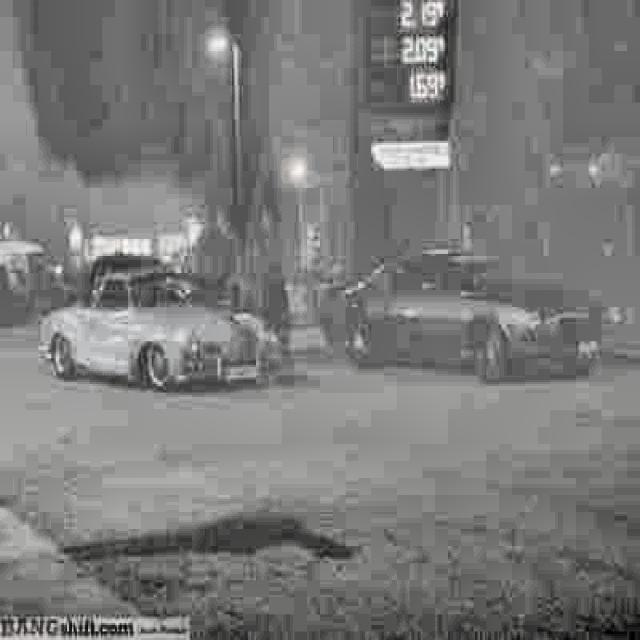license_plate: (223, 359, 258, 383), (577, 340, 602, 371)
